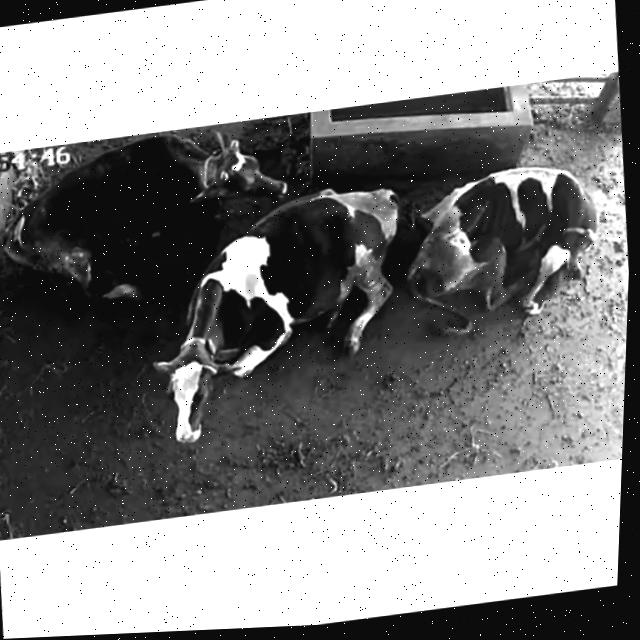lay: (124, 175, 421, 468), (398, 148, 629, 364), (0, 121, 291, 290)
